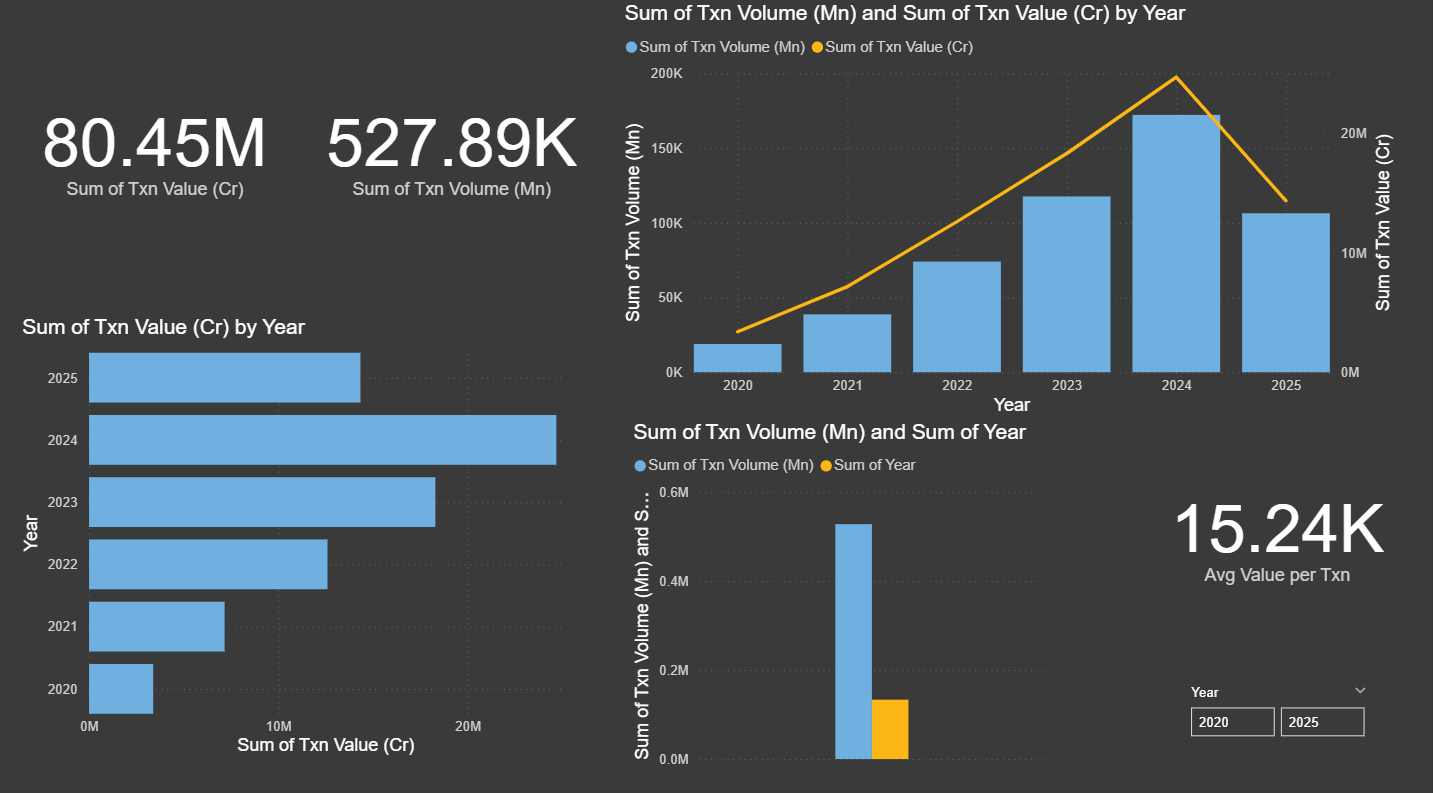

This screenshot's page, from the dashboard's own definition file:
{"tool":"powerbi","page":{"name":"Page 1","canvas":[1280,720],"ordinal":0},"visuals":[{"type":"card","fields":{"Values":["Sum(Sheet1.Txn Value (Cr))"]},"box":[0,0,279.9,279.9],"z":0},{"type":"card","fields":{"Values":["Sum(Sheet1.Txn Volume (Mn))"]},"box":[279.9,19.3,249.7,241.3],"z":1000},{"type":"card","fields":{"Values":["Sheet1.Avg Value per Txn"]},"box":[1000.1,359.5,279.9,248.5],"z":2000},{"type":"lineStackedColumnComboChart","fields":{"Category":["Sheet1.Month.Variation.Date Hierarchy.Year","Sheet1.Month.Variation.Date Hierarchy.Quarter","Sheet1.Month.Variation.Date Hierarchy.Month","Sheet1.Month.Variation.Date Hierarchy.Day"],"Y2":["Sum(Sheet1.Txn Value (Cr))"],"Y":["Sum(Sheet1.Txn Volume (Mn))"]},"box":[553.2,10,694.6,372.9],"z":4000},{"type":"clusteredColumnChart","fields":{"Y":["Sum(Sheet1.Txn Volume (Mn))","Sum(Sheet1.Year)"]},"box":[561,382.4,378.8,314.9],"z":5000},{"type":"clusteredBarChart","fields":{"Category":["Sheet1.Year"],"Y":["Sum(Sheet1.Txn Value (Cr))"]},"box":[16.9,289.5,503.1,396.9],"z":6000},{"type":"slicer","fields":{"Values":["Sheet1.Year"]},"box":[1049.6,612.9,181,84.5],"z":7000}]}

Visuals, with their boxes in screenshot pixels (x1, y1, x2, y2), scaled from the page's 1280x720 canvas onto the 1434x793 screenshot:
card - Sum(Sheet1.Txn Value (Cr)): 0/0/314/308
card - Sum(Sheet1.Txn Volume (Mn)): 314/21/593/287
card - Sheet1.Avg Value per Txn: 1120/396/1433/670
lineStackedColumnComboChart - Sheet1.Month.Variation.Date Hierarchy.Year x Sheet1.Month.Variation.Date Hierarchy.Quarter: 620/11/1398/422
clusteredColumnChart - Sum(Sheet1.Txn Volume (Mn)) x Sum(Sheet1.Year): 628/421/1053/768
clusteredBarChart - Sheet1.Year x Sum(Sheet1.Txn Value (Cr)): 19/319/583/756
slicer - Sheet1.Year: 1176/675/1379/768
